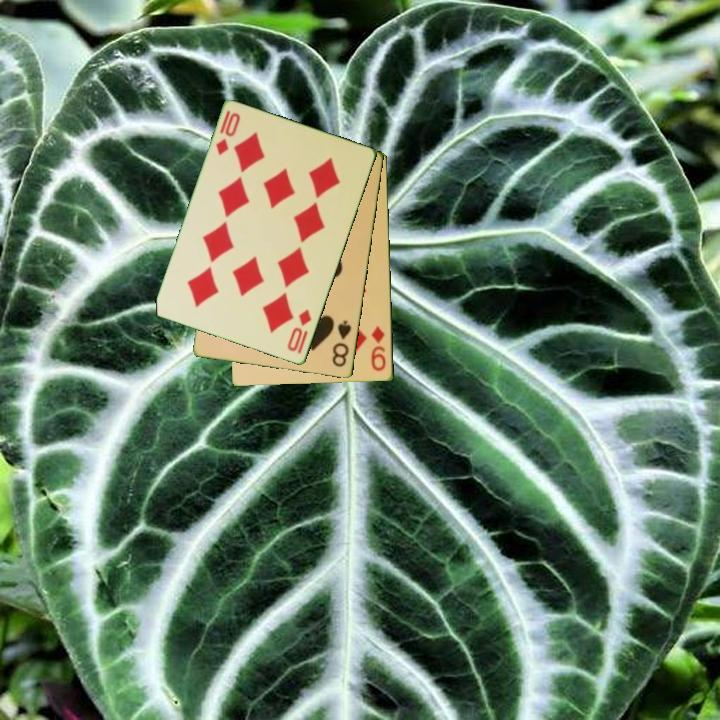10d: (284, 306, 315, 357), (212, 107, 243, 158)
8s: (329, 317, 355, 370)
9d: (368, 322, 389, 374)
